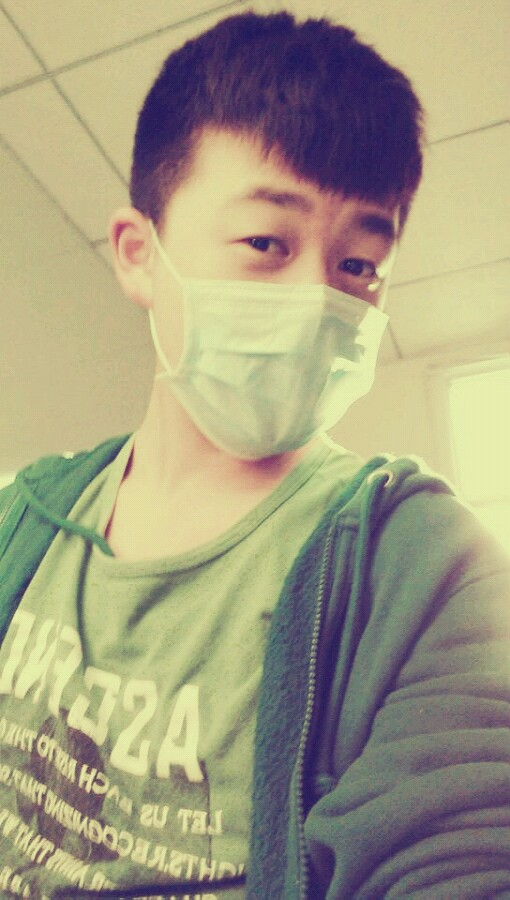face_mask: (166, 87, 389, 456)
